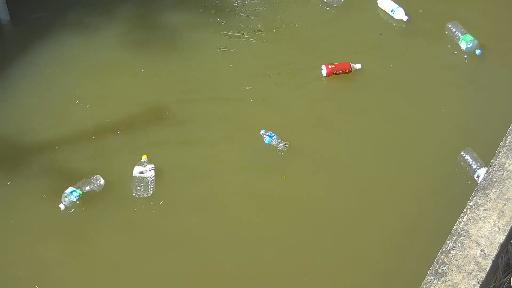plastic: (41, 171, 110, 207), (453, 141, 496, 187), (313, 52, 379, 80), (448, 13, 480, 68), (131, 154, 164, 204), (261, 125, 302, 161), (382, 0, 426, 29), (314, 0, 363, 12)
